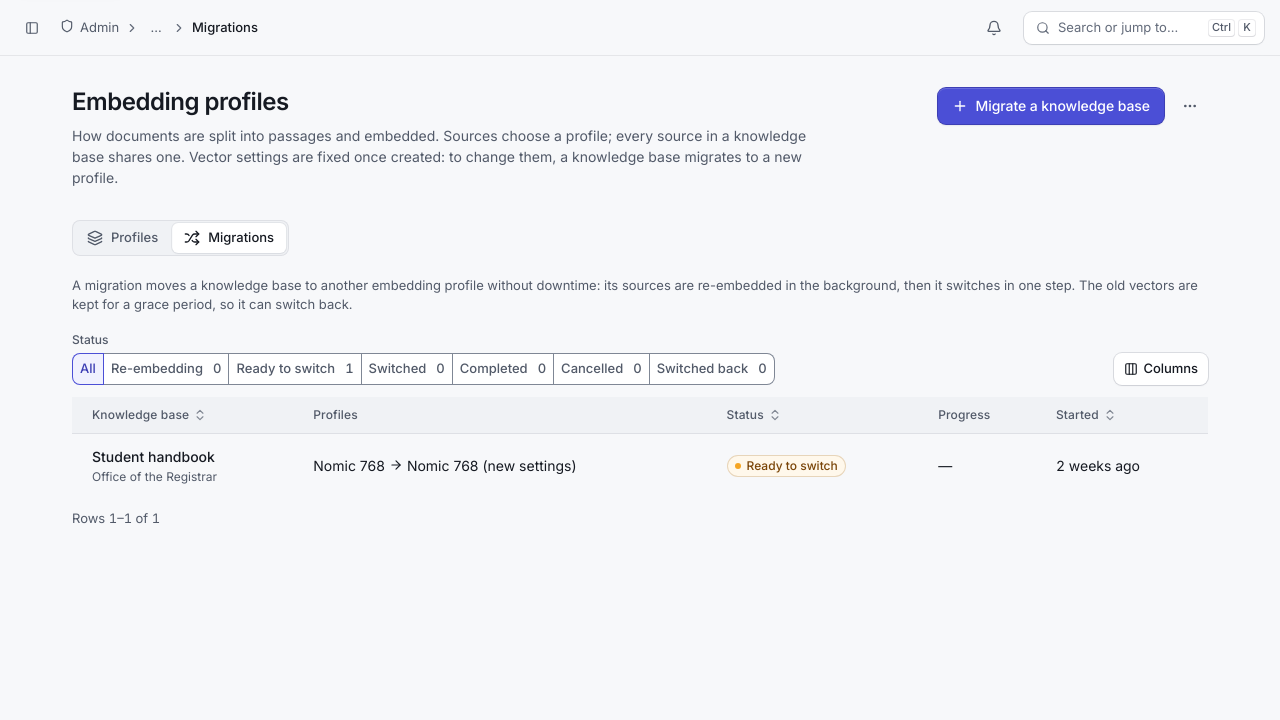
Preview new settings › on a phone the header keeps one button, and Preview new settings… is in the … menu
Expected: the button "Migrate a knowledge base" is shown, [938,88,1164,124]
Expected: the button "Preview new settings…" is not shown
Click the button named "More actions" at (1190, 106), box [1172,88,1208,124]
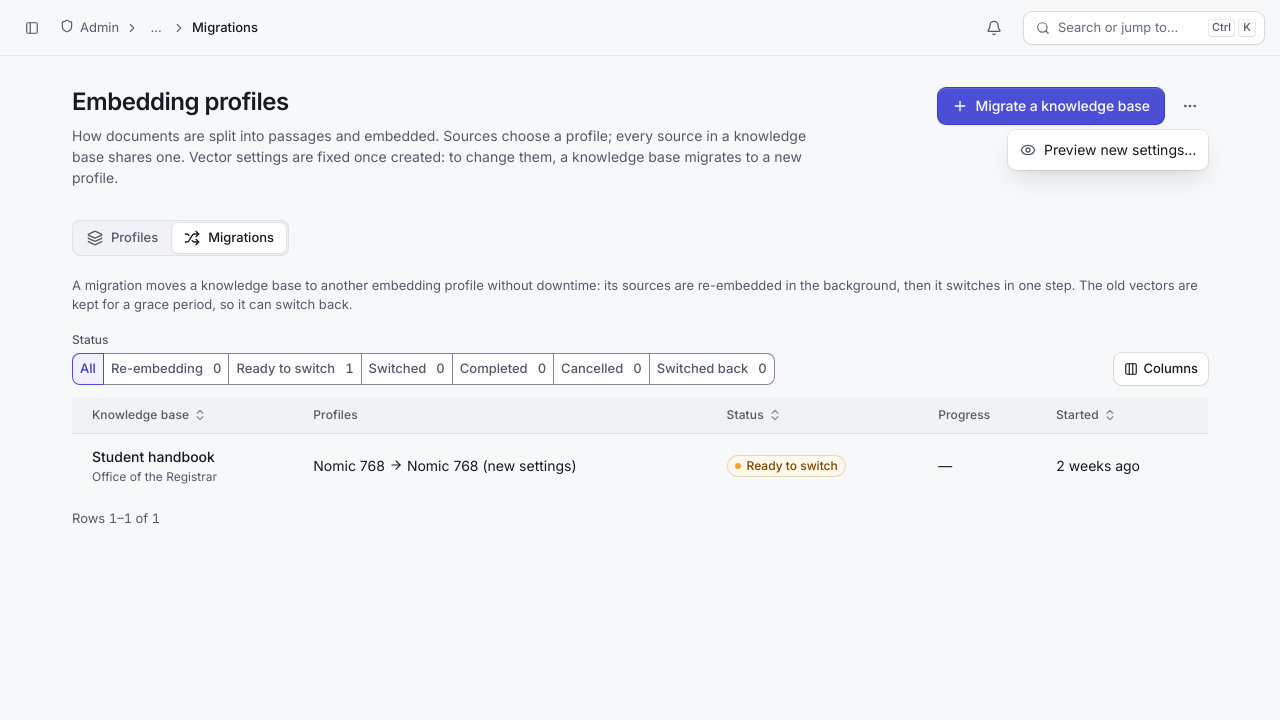
Click the menu item "Preview new settings…" at (1108, 150), box [1020,141,1196,158]
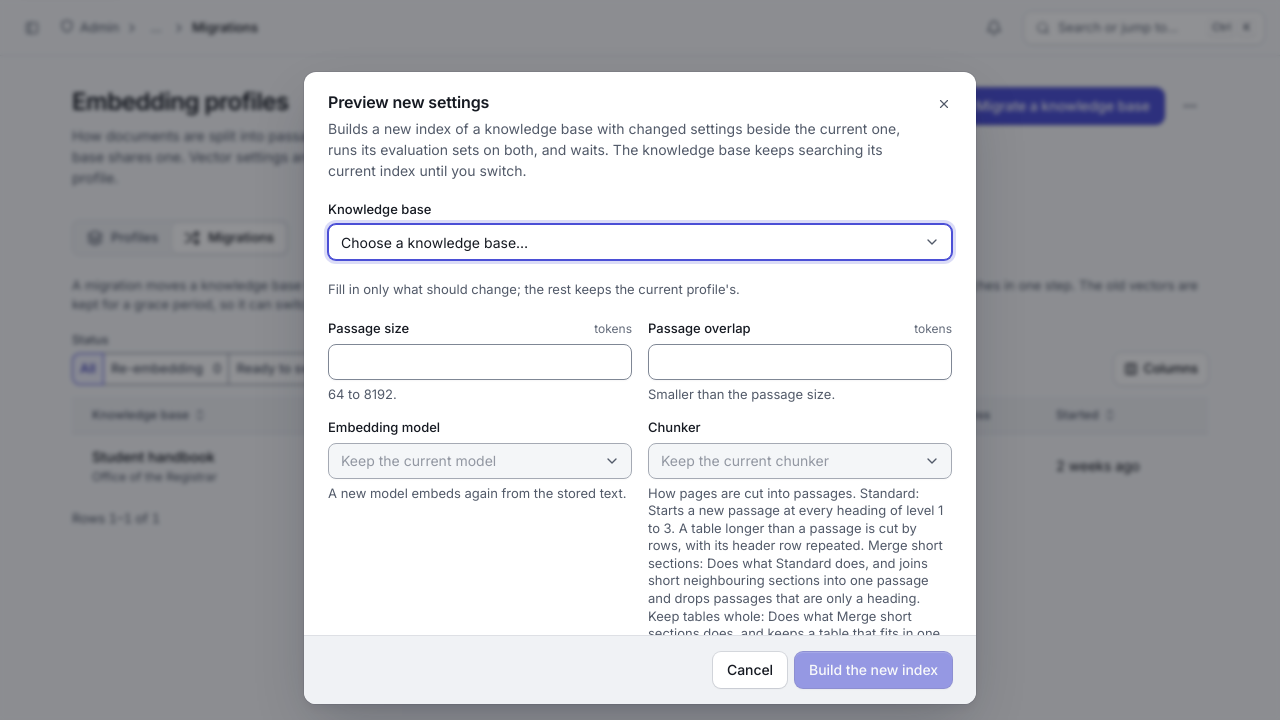
Expected: the dialog "Preview new settings" is shown, [304,72,976,704]
